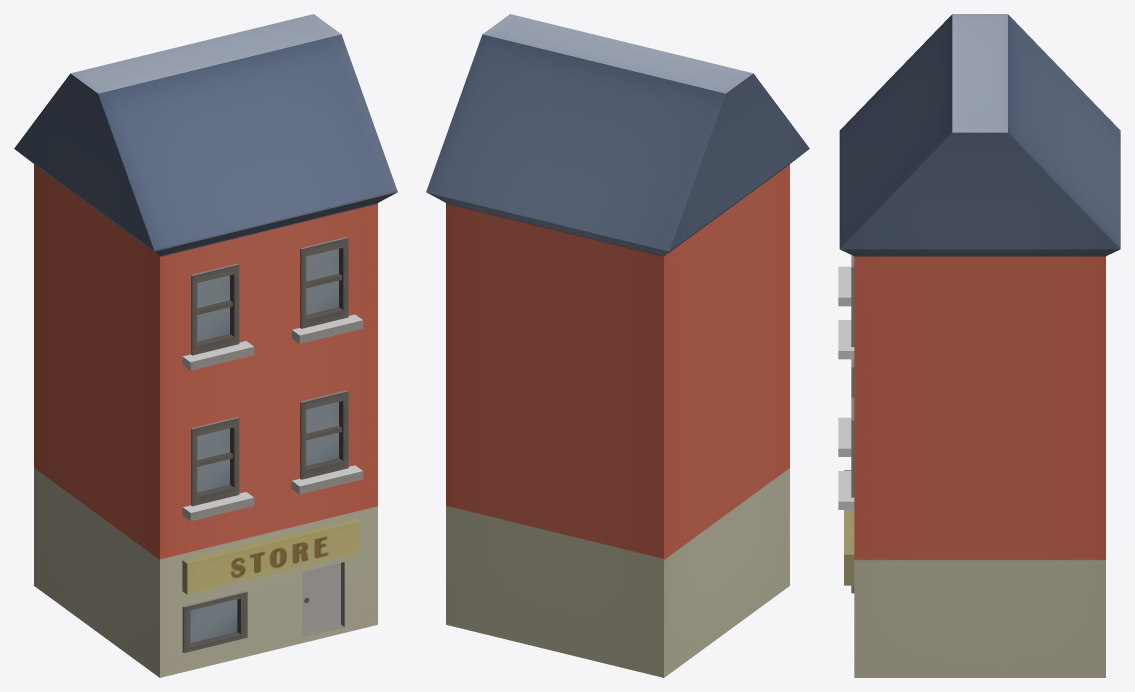
The model's file is House_12_UV_Color.fbx.
3 renders of one model, left to right at view 1: azimuth 30°, elevation 25°; view 2: azimuth 150°, elevation 25°; view 3: azimuth 270°, elevation 25°, orthographic.
Parts seen in each view (by area): view 1: House_12_UV_Color; view 2: House_12_UV_Color; view 3: House_12_UV_Color.
Part boxes in pixels (x1,y1,x2,y2): House_12_UV_Color: [14, 14, 397, 677]; House_12_UV_Color: [426, 14, 809, 677]; House_12_UV_Color: [838, 14, 1120, 677].
Bounding box in the file's own units: 1231 × 2666 × 1237.
